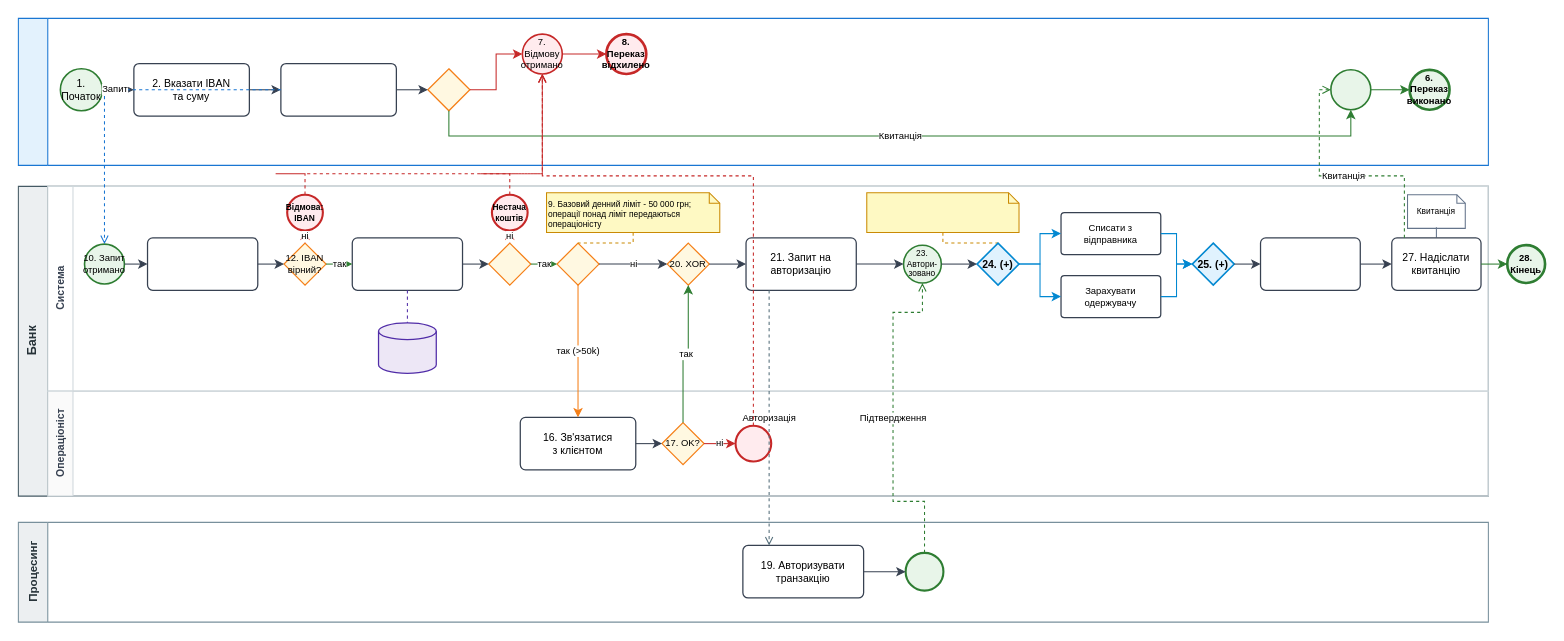
The diagram is 1564 pixels wide and 641 high, and some of its shapes have lost their labels. Here are the shapes that lost their labels. From the top down, the box of each, then its label:
(280, 62, 396, 116): 3. Підтвердити переказ
(427, 68, 470, 111): 4. Шлюз подій
(17, 17, 1488, 165): Клієнт
(1330, 69, 1371, 110): 5. Квитанцію отримано
(866, 192, 1019, 233): 18. Списання і зарахування в межах єдиної атомарної транзакції
(146, 237, 258, 290): 11. Перевірити формат IBAN
(351, 237, 463, 290): 13. Перевірити баланс і ліміт
(488, 242, 531, 285): 14. Баланс OK?
(556, 242, 599, 285): 15. >50k грн?
(1259, 237, 1360, 290): 26. Записати транзакцію
(377, 322, 436, 373): Сховище «Рахунки»
(734, 424, 772, 462): Відмова оператора
(904, 551, 944, 591): 22. OK
